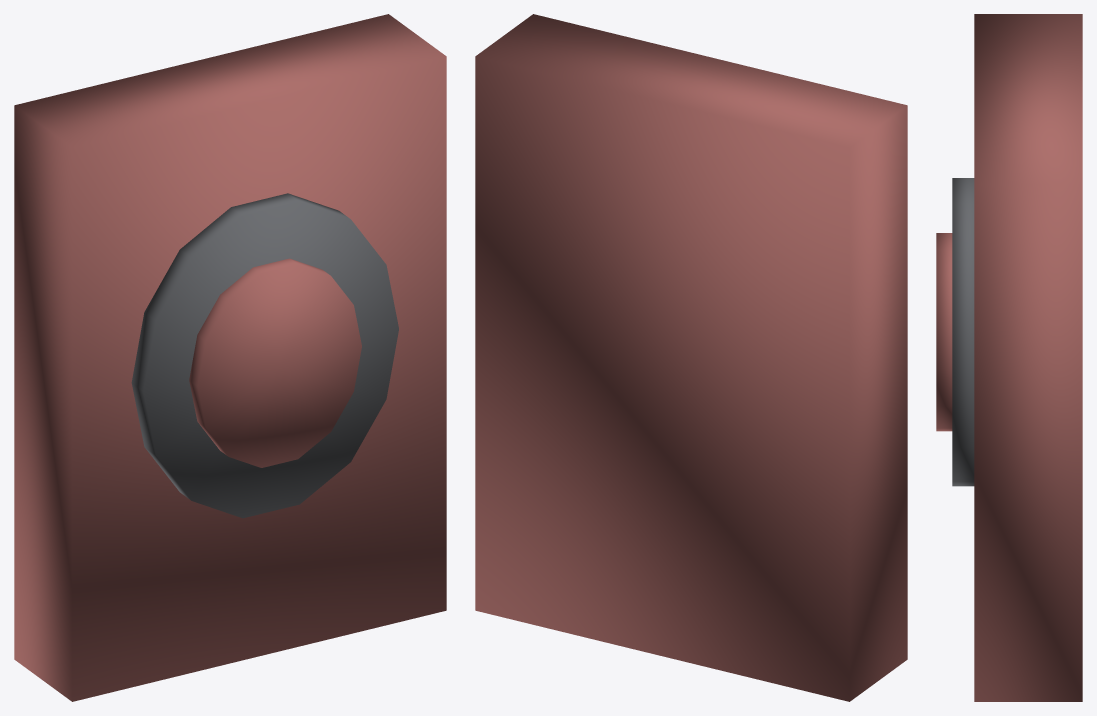
File: fire_hose_rack__tall.glb
3 renders of one model, left to right at view 1: azimuth 30°, elevation 25°; view 2: azimuth 150°, elevation 25°; view 3: azimuth 270°, elevation 25°, orthographic. The views are drawn at different scales.
Visible parts, largest first — view 1: world; view 2: world; view 3: world.
Boxes of the visible parts, x1=… form: world: x1=14, y1=14, x2=446, y2=701; world: x1=475, y1=14, x2=907, y2=701; world: x1=936, y1=14, x2=1082, y2=701.
Bounding box in the file's own units: 0.82 × 1.16 × 0.2975.
